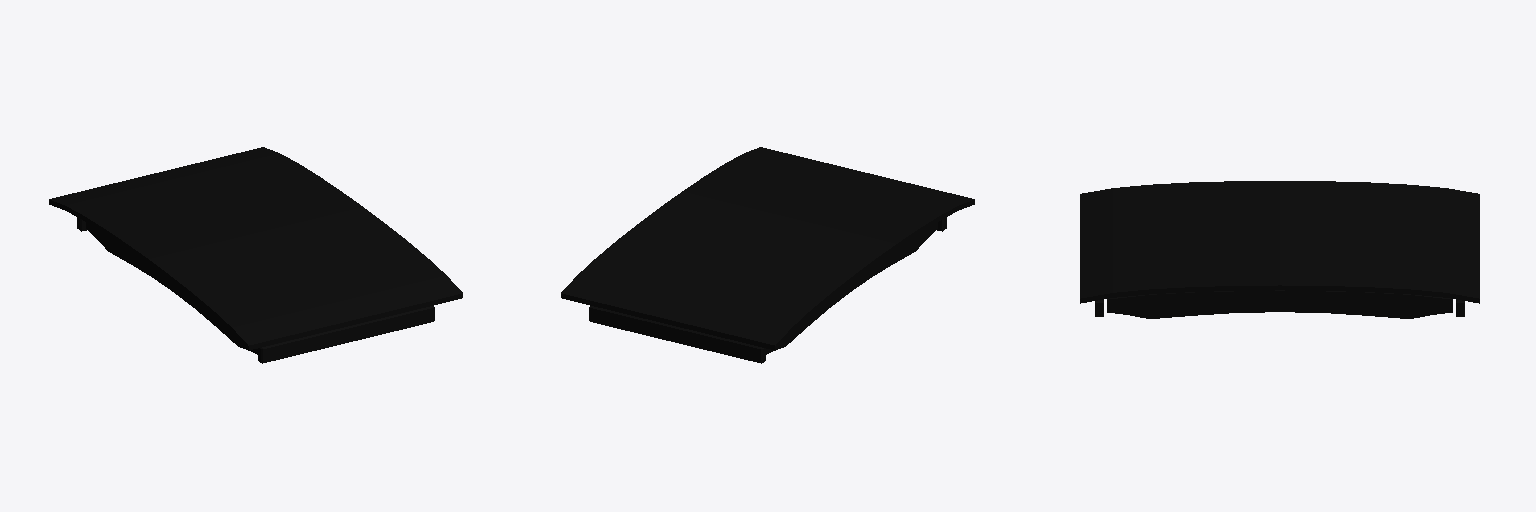
The model's file is busstop_ceiling.obj.
3 views of the same model, side by side, from view 1: azimuth 30°, elevation 25°; view 2: azimuth 150°, elevation 25°; view 3: azimuth 270°, elevation 25° (orthographic).
Parts seen in each view (by area): view 1: Cube.002; view 2: Cube.002; view 3: Cube.002.
Part boxes in pixels (left/top/right/bottom): Cube.002: left=49, top=147, right=462, bottom=363; Cube.002: left=561, top=147, right=974, bottom=363; Cube.002: left=1080, top=181, right=1479, bottom=318.
Size of the model in its own units: 1.39 by 0.2825 by 2.24.